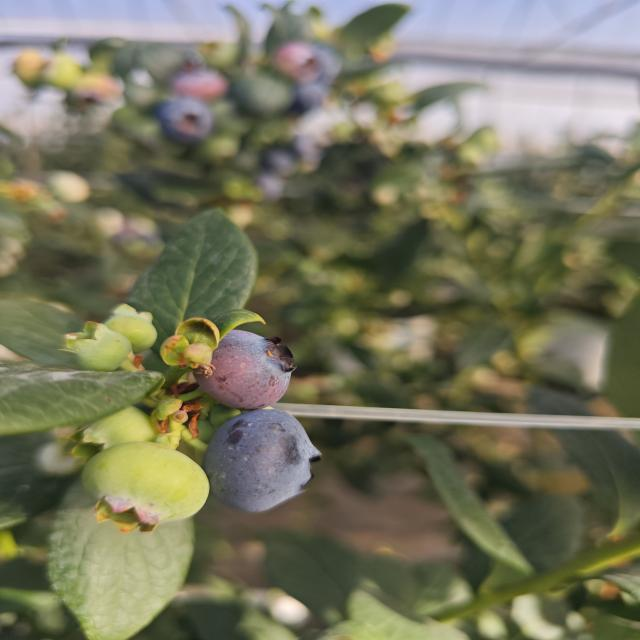ripe: (200, 407, 324, 515), (189, 328, 299, 412), (254, 129, 322, 206), (152, 94, 211, 142), (302, 48, 340, 84), (298, 85, 328, 113)
